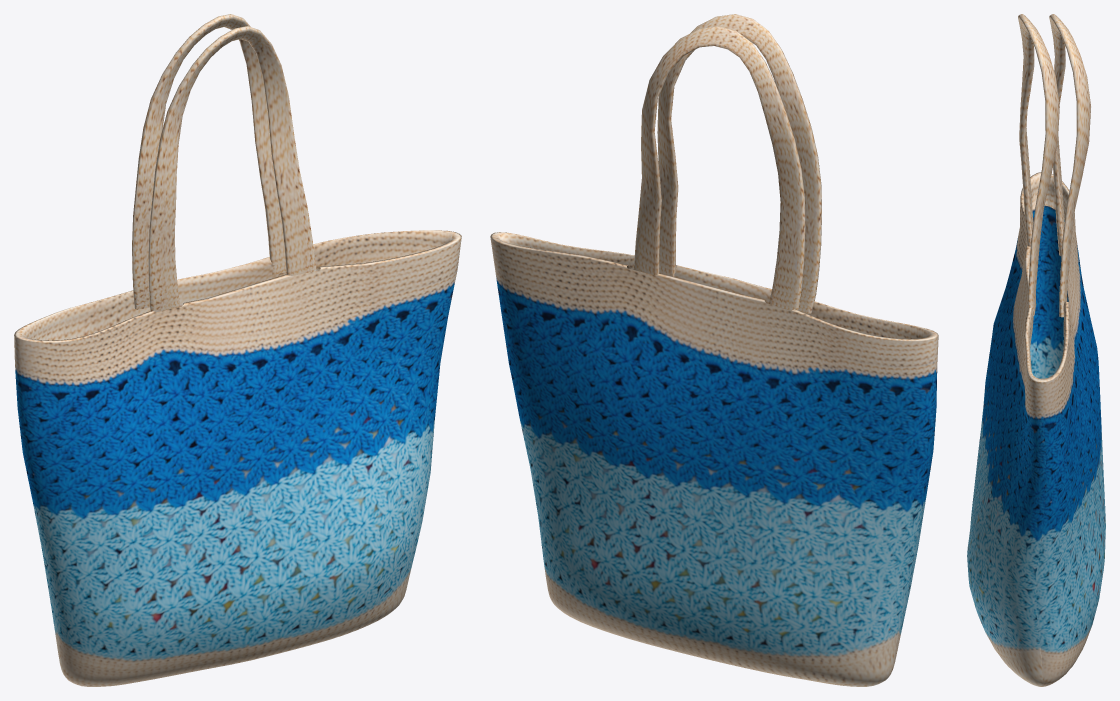
The model's file is bolsa1azul.glb.
The picture shows the model from 3 angles, left to right: view 1: azimuth 30°, elevation 25°; view 2: azimuth 150°, elevation 25°; view 3: azimuth 270°, elevation 25°; orthographic projection. The views are drawn at different scales.
Visible parts, largest first — view 1: polySurface1, polySurface2, polySurface4; view 2: polySurface1, polySurface4, polySurface2; view 3: polySurface1, polySurface2, polySurface4.
Boxes of the visible parts, x1,y1,x2,y2 form: polySurface1: (14, 230, 461, 686); polySurface2: (148, 26, 316, 312); polySurface4: (132, 14, 286, 309); polySurface1: (490, 232, 938, 686); polySurface4: (633, 26, 805, 310); polySurface2: (657, 14, 821, 313); polySurface1: (967, 172, 1105, 686); polySurface2: (1018, 14, 1059, 315); polySurface4: (1049, 14, 1090, 317).
Size of the model in its own units: 24.14 by 32.94 by 6.88.
1 material, 1 textured.
